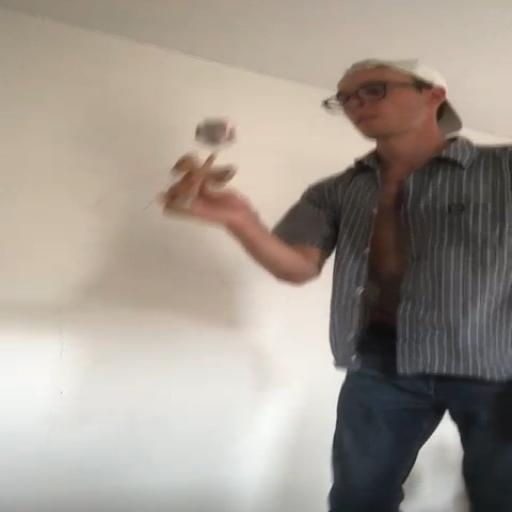kendama_ball: (195, 117, 237, 146)
